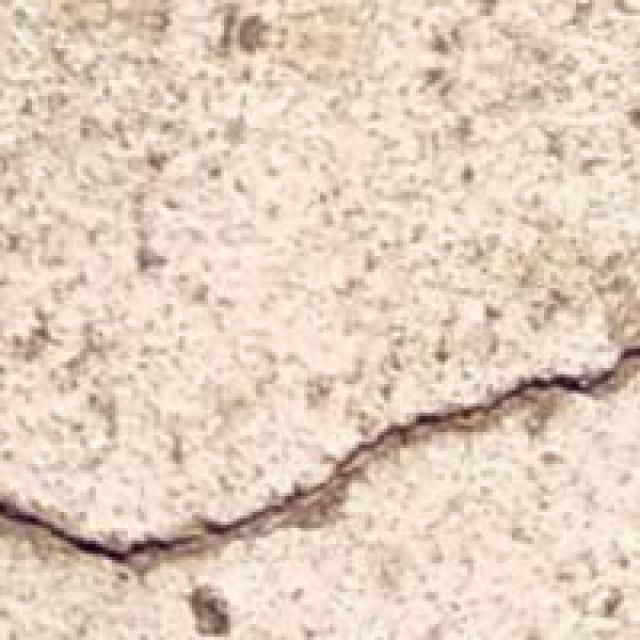crack: (0, 342, 637, 634)
